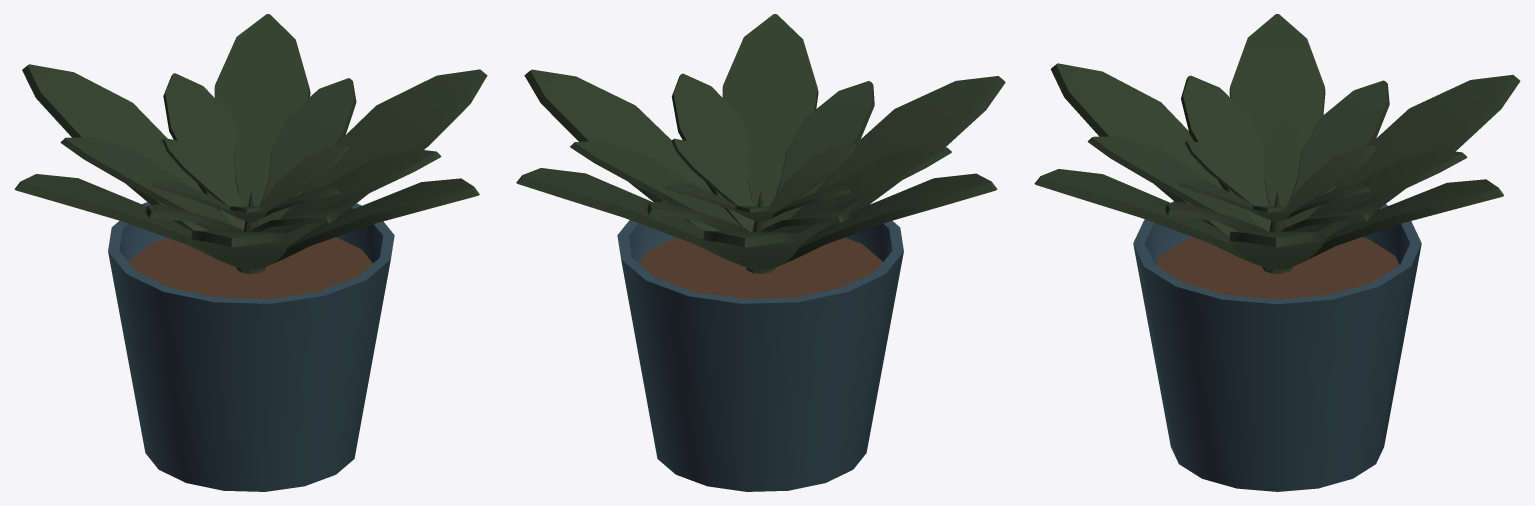
Rendered from roslinka.fbx.
3 renders of one model, left to right at view 1: azimuth 30°, elevation 25°; view 2: azimuth 150°, elevation 25°; view 3: azimuth 270°, elevation 25°, orthographic.
Parts seen in each view (by area): view 1: kwiat4; view 2: kwiat4; view 3: kwiat4.
Boxes of the visible parts, x1,y1,x2,y2 form: kwiat4: (14, 14, 487, 491); kwiat4: (516, 14, 1005, 491); kwiat4: (1034, 14, 1520, 491).
Bounding box in the file's own units: 337 × 377 × 245.
